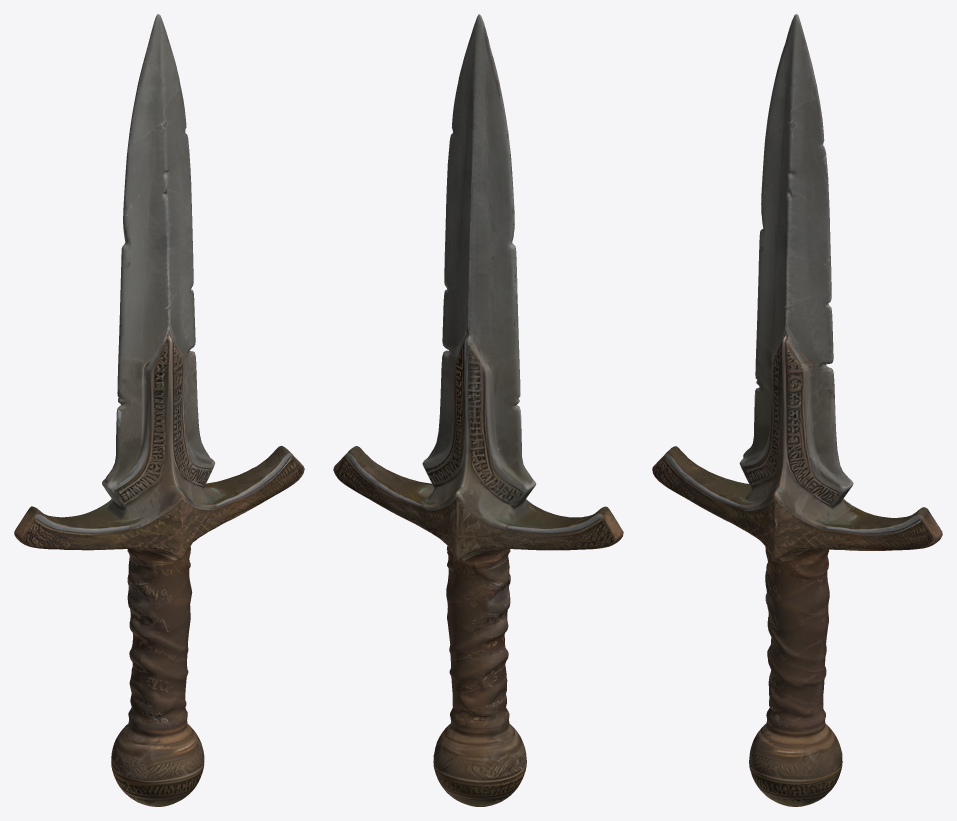
File: dagger.glb
The picture shows the model from 3 angles, left to right: view 1: azimuth 30°, elevation 25°; view 2: azimuth 150°, elevation 25°; view 3: azimuth 330°, elevation 25°; orthographic projection.
Visible parts, largest first — view 1: tripo_node_cd9b706e-a1fd-4417-96de-35e4f9835dc9; view 2: tripo_node_cd9b706e-a1fd-4417-96de-35e4f9835dc9; view 3: tripo_node_cd9b706e-a1fd-4417-96de-35e4f9835dc9.
Part boxes in pixels (x1,y1,x2,y2): tripo_node_cd9b706e-a1fd-4417-96de-35e4f9835dc9: [14, 14, 304, 806]; tripo_node_cd9b706e-a1fd-4417-96de-35e4f9835dc9: [333, 14, 623, 806]; tripo_node_cd9b706e-a1fd-4417-96de-35e4f9835dc9: [652, 14, 942, 806].
Bounding box in the file's own units: 0.3783 × 0.9994 × 0.1056.
1 material, 1 textured.
